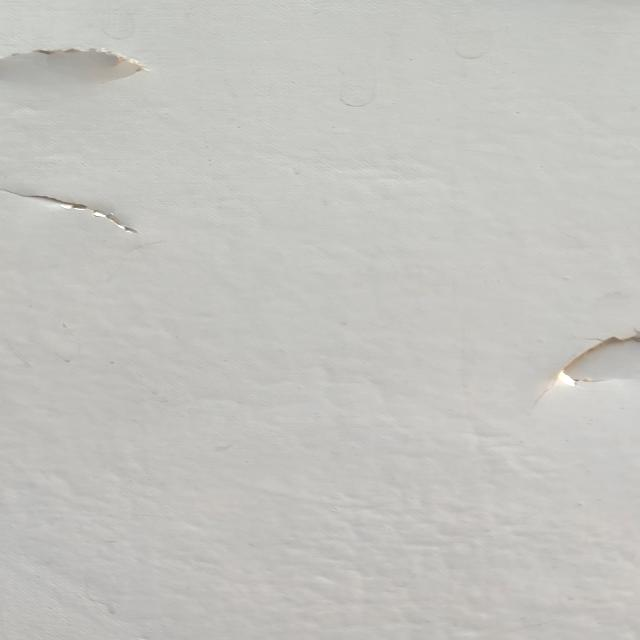Scratches: (1, 181, 175, 251), (526, 308, 640, 399), (1, 34, 170, 95)
